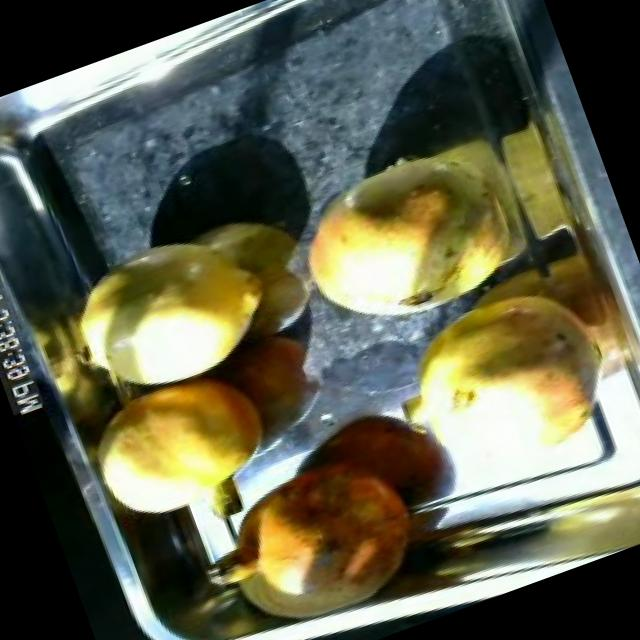fruit: (366, 257, 640, 512), (269, 116, 542, 356), (44, 207, 296, 421), (193, 428, 447, 640), (68, 346, 302, 552)
